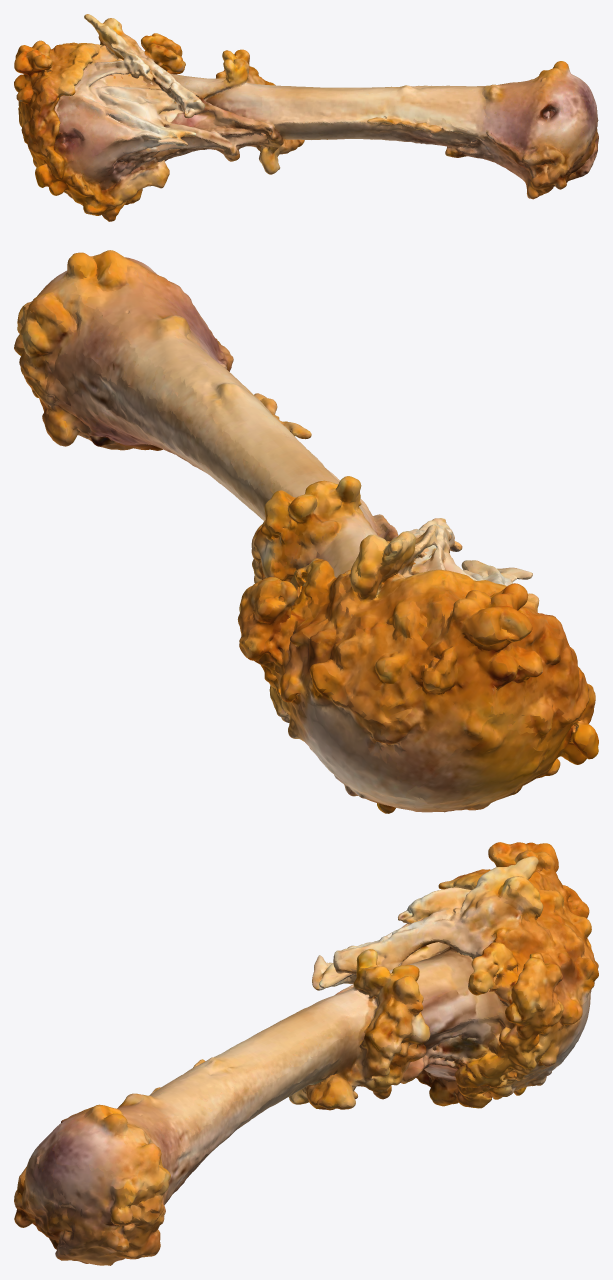
The model's file is crispy-chicken-3.glb.
3 renders of one model, top to bottom at view 1: azimuth 30°, elevation 25°; view 2: azimuth 150°, elevation 25°; view 3: azimuth 270°, elevation 25°, orthographic. The views are drawn at different scales.
Parts seen in each view (by area): view 1: FoodRedoV2Alignment-0; view 2: FoodRedoV2Alignment-0; view 3: FoodRedoV2Alignment-0.
Part boxes in pixels (<box>): FoodRedoV2Alignment-0: <box>14,14,598,221</box>; FoodRedoV2Alignment-0: <box>14,250,598,813</box>; FoodRedoV2Alignment-0: <box>14,842,598,1265</box>.
Size of the model in its own units: 0.1284 by 0.0465 by 0.1021.
1 material, 1 textured.
